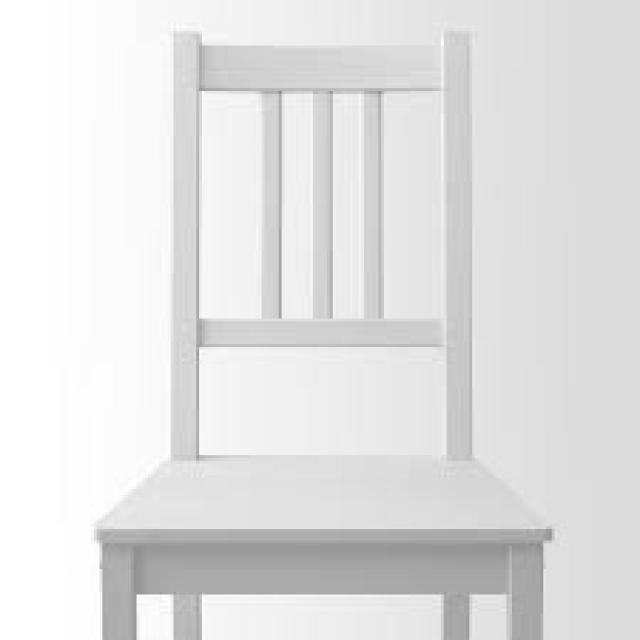chair: (68, 8, 631, 640)
